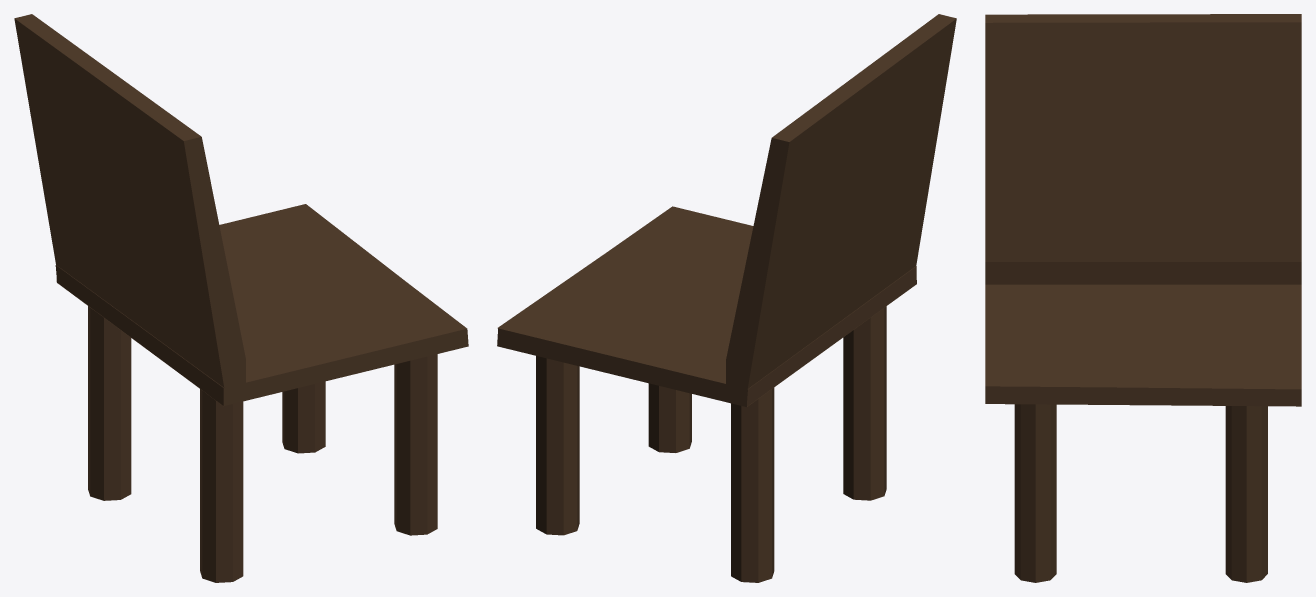
Rendered from Tafelstoel.fbx.
3 views of the same model, side by side, from view 1: azimuth 30°, elevation 25°; view 2: azimuth 150°, elevation 25°; view 3: azimuth 270°, elevation 25° (orthographic). The views are drawn at different scales.
Parts seen in each view (by area): view 1: Kubus, Cylinder.003, Cylinder, Cylinder.001, Cylinder.002; view 2: Kubus, Cylinder, Cylinder.003, Cylinder.002, Cylinder.001; view 3: Kubus, Cylinder.001, Cylinder.002.
Boxes of the visible parts, <box> form: Kubus: <box>14,14,468,406</box>; Cylinder.003: <box>200,389,243,582</box>; Cylinder: <box>88,306,131,500</box>; Cylinder.001: <box>394,354,437,535</box>; Cylinder.002: <box>282,381,325,453</box>; Kubus: <box>497,14,956,406</box>; Cylinder: <box>731,388,774,582</box>; Cylinder.003: <box>843,306,886,500</box>; Cylinder.002: <box>536,356,579,535</box>; Cylinder.001: <box>648,383,691,452</box>; Kubus: <box>985,14,1301,406</box>; Cylinder.001: <box>1014,404,1056,582</box>; Cylinder.002: <box>1225,406,1267,582</box>.
Bounding box in the file's own units: 300 × 461 × 300.
